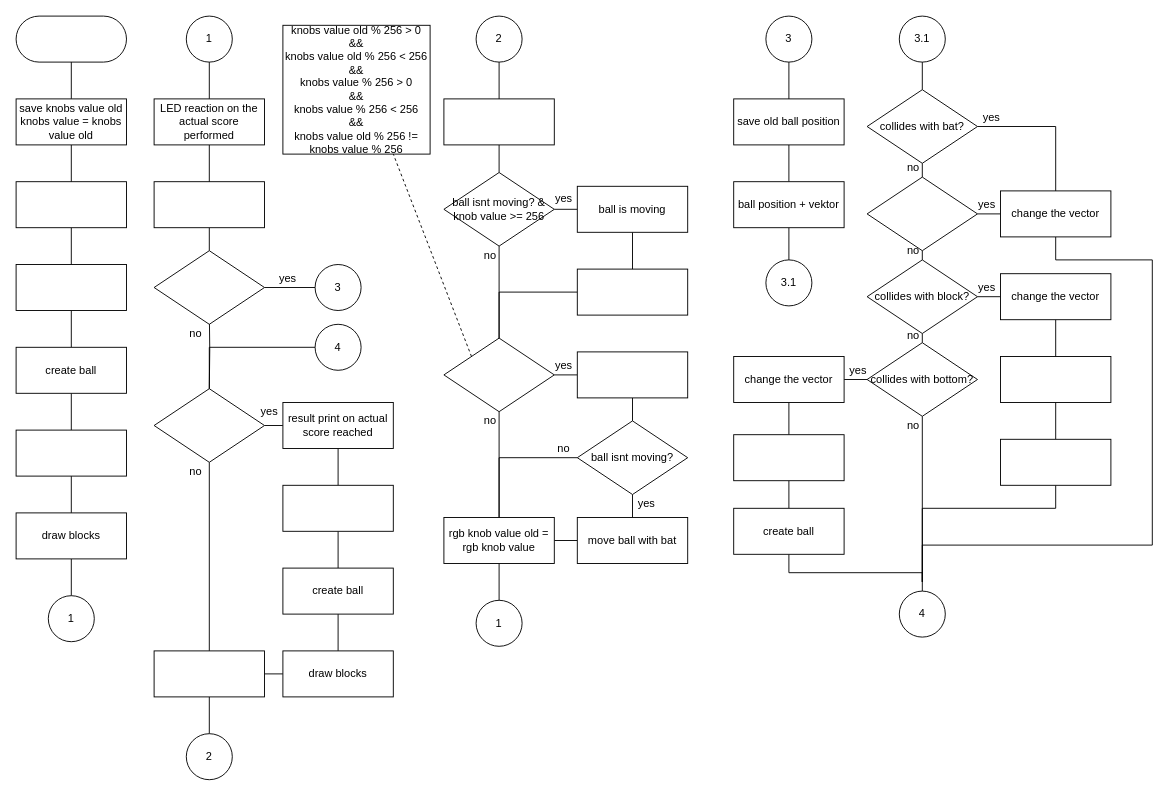
Image size: 1169x796. Some labels were removed from this diagram. Here are the shapes that lost their labels. From the top down, the box of each, then its label:
(15, 15, 126, 62): start
(443, 98, 554, 145): rgb knob value update
(15, 181, 126, 228): draw field
(153, 181, 264, 228): draw bat
(866, 176, 978, 251): collides with field?
(15, 264, 126, 310): create bat
(153, 250, 264, 324): ball is moving?
(576, 268, 688, 315): pring warning
(443, 337, 554, 412): condition
(576, 351, 688, 398): move bat
(1000, 356, 1111, 402): delete block
(153, 388, 264, 462): hp <= 0? or score is max?
(15, 429, 126, 476): generate level (blocks positions)
(733, 434, 844, 481): update score & hp
(1000, 438, 1111, 485): update score
(282, 484, 393, 531): reset score and health
(153, 650, 264, 697): draw ball
